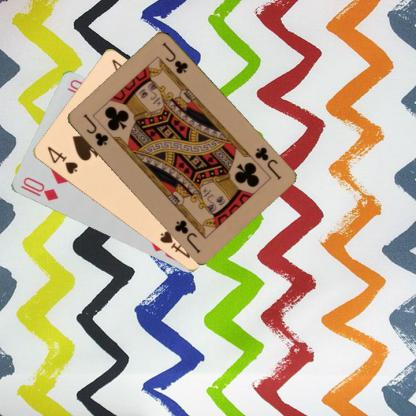10d: (18, 174, 60, 203)
4s: (45, 144, 79, 176)
Jc: (251, 144, 282, 181), (80, 111, 110, 147)
